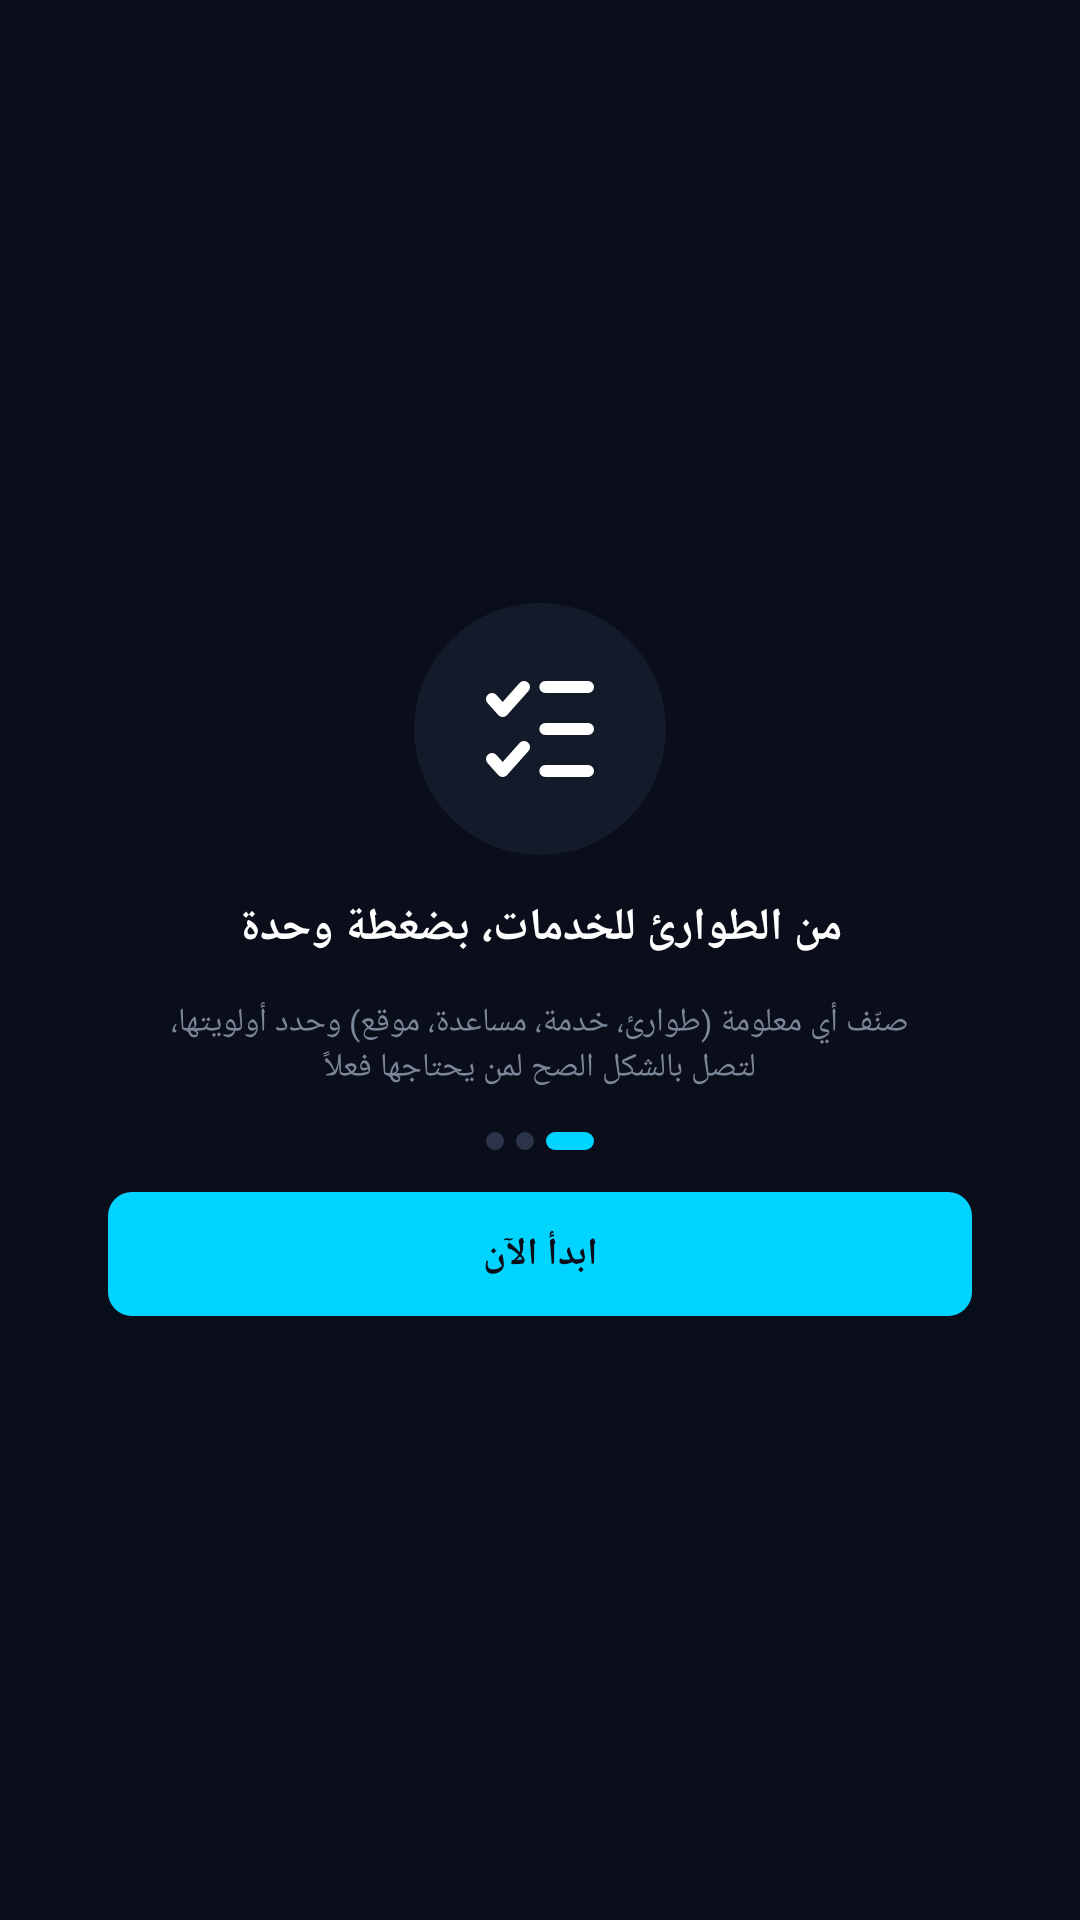

Icons on this 1080 × 1920 Android screen, each with its box as (x1, y1, x2, y2):
list checks: (486, 681, 594, 777)
